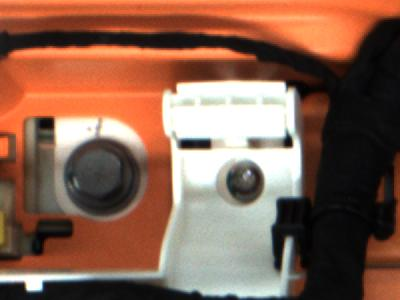nut_b: (55, 129, 148, 229)
